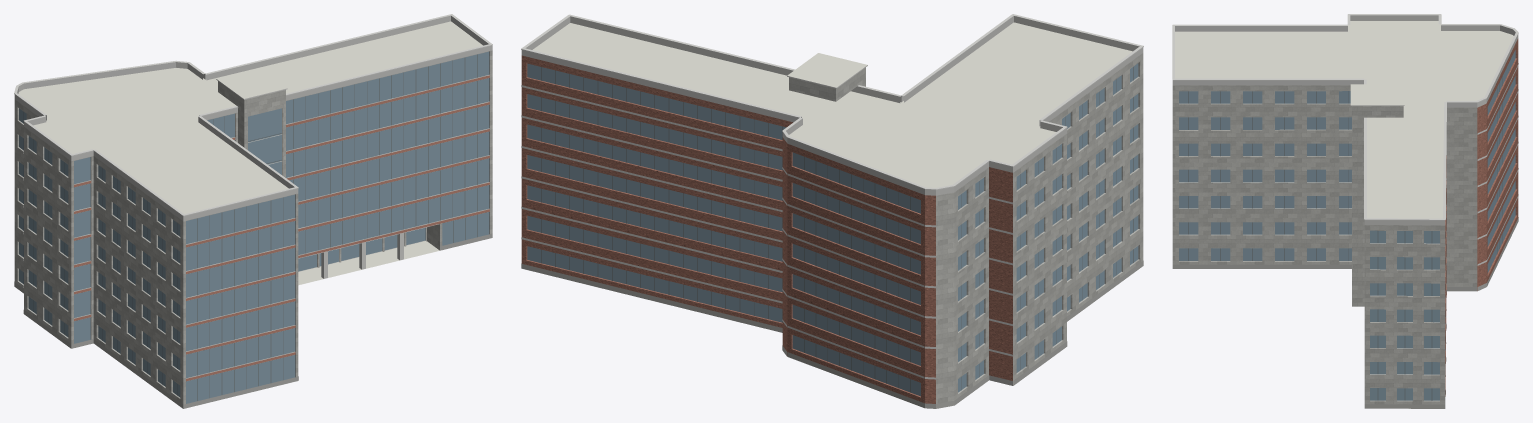
The picture shows the model from 3 angles, left to right: view 1: azimuth 30°, elevation 25°; view 2: azimuth 150°, elevation 25°; view 3: azimuth 270°, elevation 25°; orthographic projection. The views are drawn at different scales.
Visible parts, largest first — view 1: design__glass, design__wall, design__roof, design__parapet, design__spandrel, design__frame, design__trim, design__base, design__column; view 2: design__wall2, design__glass, design__roof, design__wall, design__trim, design__parapet, design__frame, design__base; view 3: design__wall, design__roof, design__glass, design__wall2, design__parapet, design__trim, design__base, design__frame.
Part boxes in pixels (x1,y1,x2,y2): design__glass: (19, 51, 489, 403); design__wall: (14, 50, 492, 408); design__roof: (18, 21, 482, 285); design__parapet: (14, 15, 492, 221); design__spandrel: (74, 75, 489, 381); design__frame: (23, 54, 486, 400); design__trim: (14, 14, 492, 287); design__base: (14, 233, 492, 408); design__column: (321, 232, 403, 278); design__wall2: (521, 55, 1012, 403); design__glass: (527, 63, 1138, 396); design__roof: (532, 22, 1132, 187); design__wall: (789, 53, 1143, 408); design__trim: (521, 14, 1143, 379); design__parapet: (521, 16, 1143, 195); design__frame: (541, 66, 1133, 392); design__base: (521, 261, 1143, 408); design__wall: (1172, 85, 1477, 404); design__roof: (1175, 21, 1513, 408); design__glass: (1179, 50, 1515, 400); design__wall2: (1445, 38, 1518, 396); design__parapet: (1172, 15, 1518, 225); design__trim: (1172, 14, 1518, 376); design__base: (1172, 217, 1518, 408); design__frame: (1188, 76, 1502, 400).
Size of the model in its own units: 62.33 by 28.52 by 44.33.
Materials: 11 (2 with a texture image).
